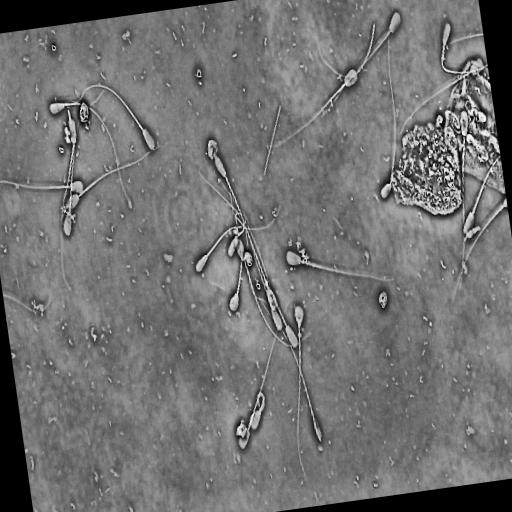coiled-tail: (257, 392, 265, 411)
dirt-particles: (388, 53, 506, 217), (78, 100, 90, 132), (206, 136, 219, 161), (295, 239, 310, 260), (235, 417, 248, 440), (377, 288, 389, 311), (243, 250, 253, 269)
folded-tail: (441, 44, 488, 74), (235, 212, 247, 225), (237, 225, 245, 237)
loose-tail: (314, 20, 376, 80), (261, 102, 283, 176)
normal: (256, 291, 324, 444), (48, 100, 133, 211), (234, 235, 313, 349), (323, 9, 403, 116), (237, 297, 292, 452), (263, 66, 359, 149), (62, 85, 108, 238), (194, 200, 284, 276), (64, 144, 158, 214), (63, 84, 157, 151), (284, 248, 396, 286), (379, 32, 398, 201), (59, 116, 77, 292), (440, 21, 488, 77), (212, 150, 245, 223), (294, 306, 307, 480), (227, 187, 244, 314), (458, 110, 469, 295), (0, 178, 85, 195), (226, 205, 250, 259), (248, 391, 268, 433)
